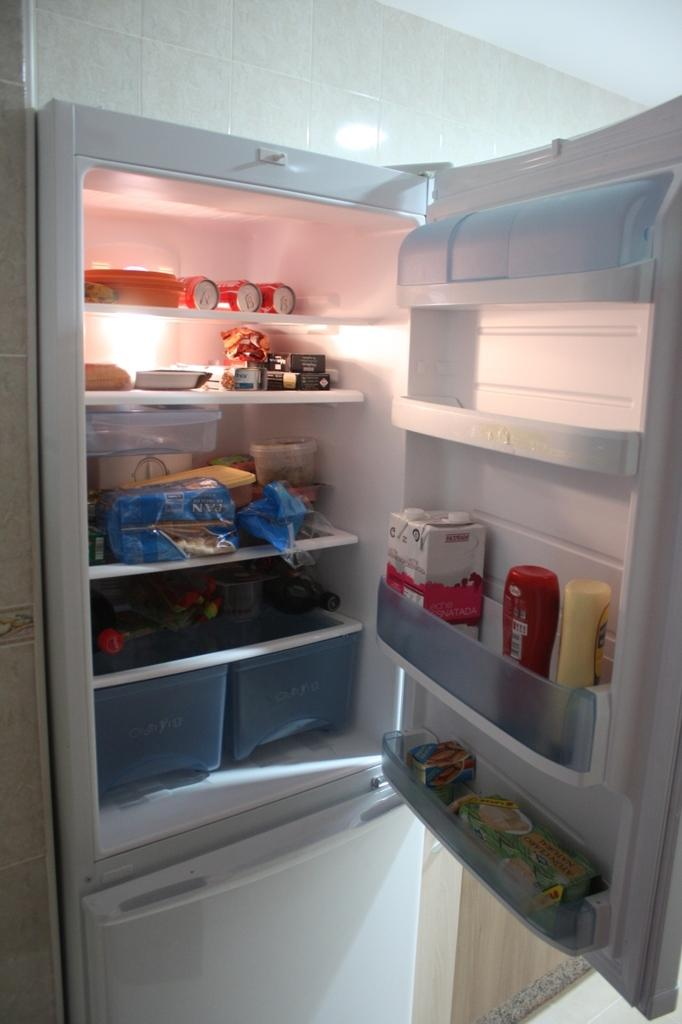handle: (102, 869, 210, 907), (360, 795, 423, 835)
